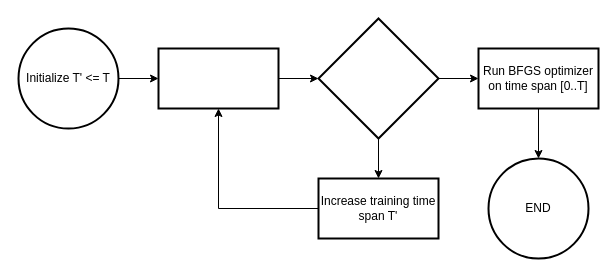
This 616x276 diagram has some shape labels left out. Here are the shapes that lost their labels. From the top down, the centre of each, then its label:
the point at 218,78: Run ADAM optimizer on time span [0..T']
the point at 378,78: Is T' < T
